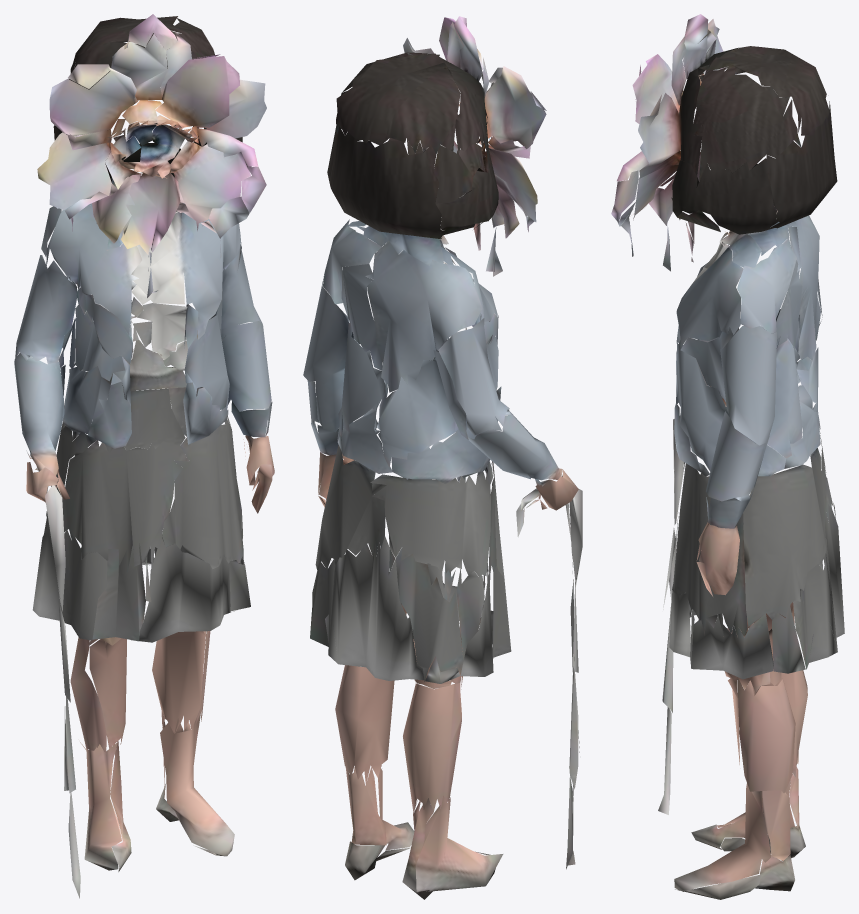
Rendered from crowd_blindwoman.glb.
3 views of the same model, side by side, from view 1: azimuth 30°, elevation 25°; view 2: azimuth 150°, elevation 25°; view 3: azimuth 270°, elevation 25° (orthographic).
Visible parts, largest first — view 1: tripo_node_392579ae-6eb2-4f6c-9963-05eded6e2730; view 2: tripo_node_392579ae-6eb2-4f6c-9963-05eded6e2730; view 3: tripo_node_392579ae-6eb2-4f6c-9963-05eded6e2730.
Part boxes in pixels (x1,y1,x2,y2): tripo_node_392579ae-6eb2-4f6c-9963-05eded6e2730: [14, 14, 274, 898]; tripo_node_392579ae-6eb2-4f6c-9963-05eded6e2730: [303, 16, 582, 899]; tripo_node_392579ae-6eb2-4f6c-9963-05eded6e2730: [611, 14, 844, 899].
Bounding box in the file's own units: 0.5787 × 1.88 × 0.4693.
Materials: 1 (1 with a texture image).
